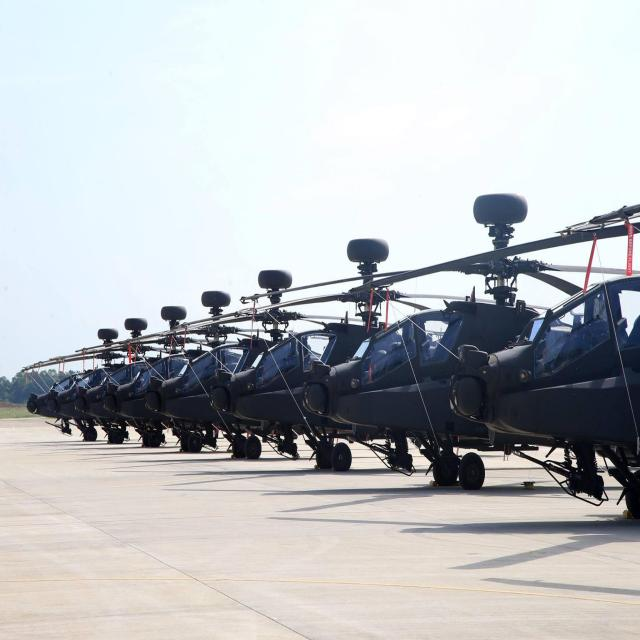MIL_HELO: (306, 192, 562, 496), (439, 184, 640, 524), (218, 239, 408, 472), (143, 267, 332, 458)
